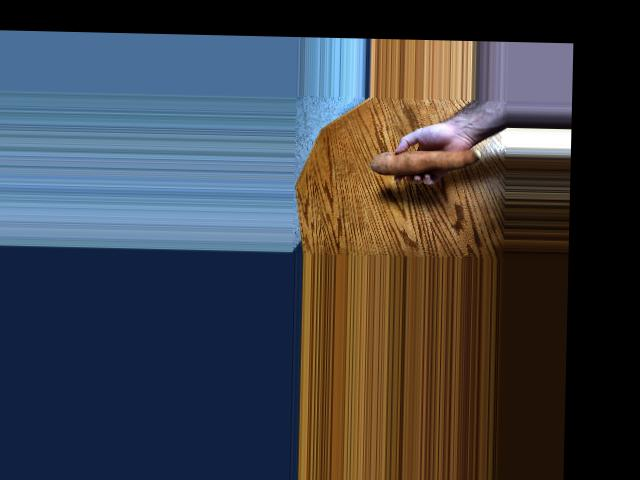sweet_potato: (365, 149, 476, 185)
